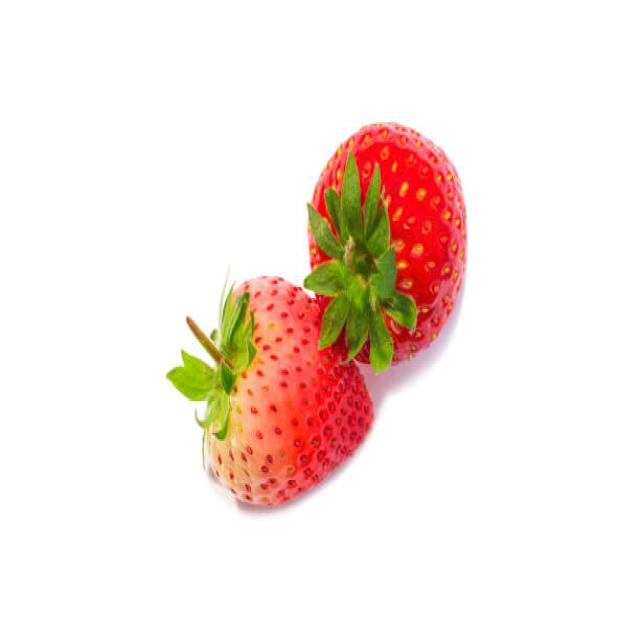Healthy Fruit: (207, 272, 373, 507), (309, 125, 467, 368)
